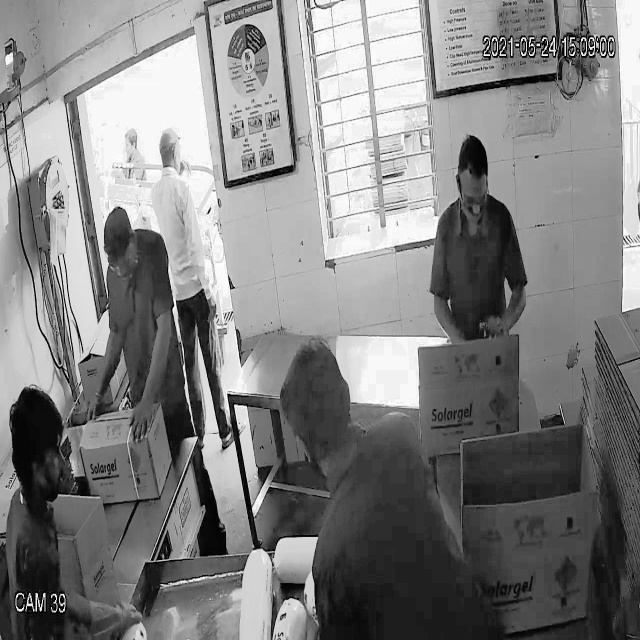Gafas: (454, 180, 490, 213)
